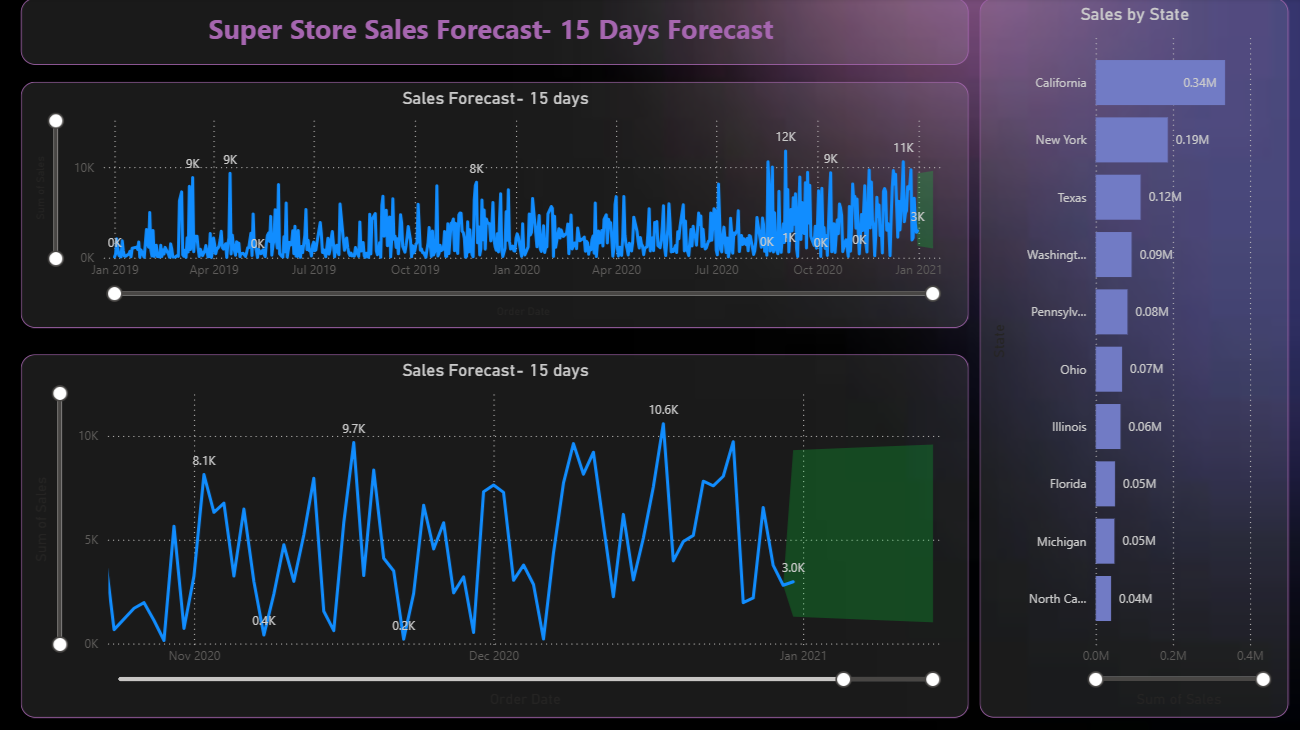

The dashboard page shown, as its layout file describes it:
{"tool":"powerbi","page":{"name":"Sales-Forecast","canvas":[1280,720],"ordinal":1},"visuals":[{"type":"lineChart","title":"Sales Forecast- 15 days","fields":{"Y":["Sum(Sheet1.Sales)"],"Category":["Sheet1.Order Date"]},"box":[23.3,349.9,930.4,356.8],"z":0},{"type":"lineChart","title":"Sales Forecast- 15 days ","fields":{"Y":["Sum(Sheet1.Sales)"],"Category":["Sheet1.Order Date"]},"box":[23.3,82.3,930.4,241.5],"z":1000},{"type":"textbox","box":[23.3,0,930.4,65.9],"z":1001},{"type":"clusteredBarChart","title":"Sales by State","fields":{"Category":["Sheet1.State"],"Y":["Sum(Sheet1.Sales)"]},"box":[964.7,0,303.3,706.7],"z":1002}]}

Visuals, with their boxes in screenshot pixels (x1, y1, x2, y2), scaled from the page's 1280x720 canvas onto the 1300x730 screenshot:
"Sales Forecast- 15 days" lineChart: box=[24, 355, 969, 717]
"Sales Forecast- 15 days " lineChart: box=[24, 83, 969, 328]
textbox: box=[24, 0, 969, 67]
"Sales by State" clusteredBarChart: box=[980, 0, 1288, 717]
